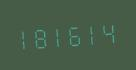eight: (34, 22, 50, 51)
four: (103, 17, 119, 46)
one: (17, 23, 33, 52), (86, 18, 102, 47), (52, 21, 68, 49)
six: (69, 19, 85, 48)
